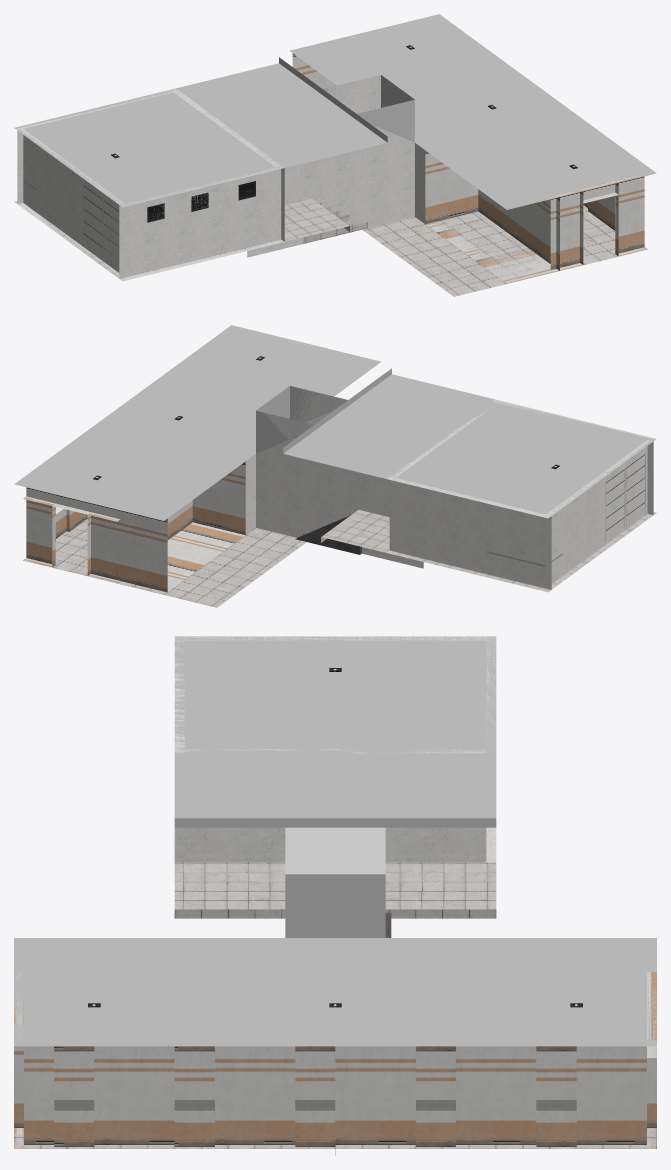
File: RZ_room2_mainoffice.obj
The picture shows the model from 3 angles, top to bottom: view 1: azimuth 30°, elevation 25°; view 2: azimuth 150°, elevation 25°; view 3: azimuth 270°, elevation 25°; orthographic projection. The views are drawn at different scales.
Parts seen in each view (by area): view 1: room2sroom; view 2: room2sroom; view 3: room2sroom.
Part boxes in pixels (x1,y1,x2,y2): room2sroom: (14, 14, 656, 296); room2sroom: (14, 325, 656, 607); room2sroom: (14, 636, 656, 1155).
Size of the model in its own units: 26.08 by 6.4 by 20.48.
